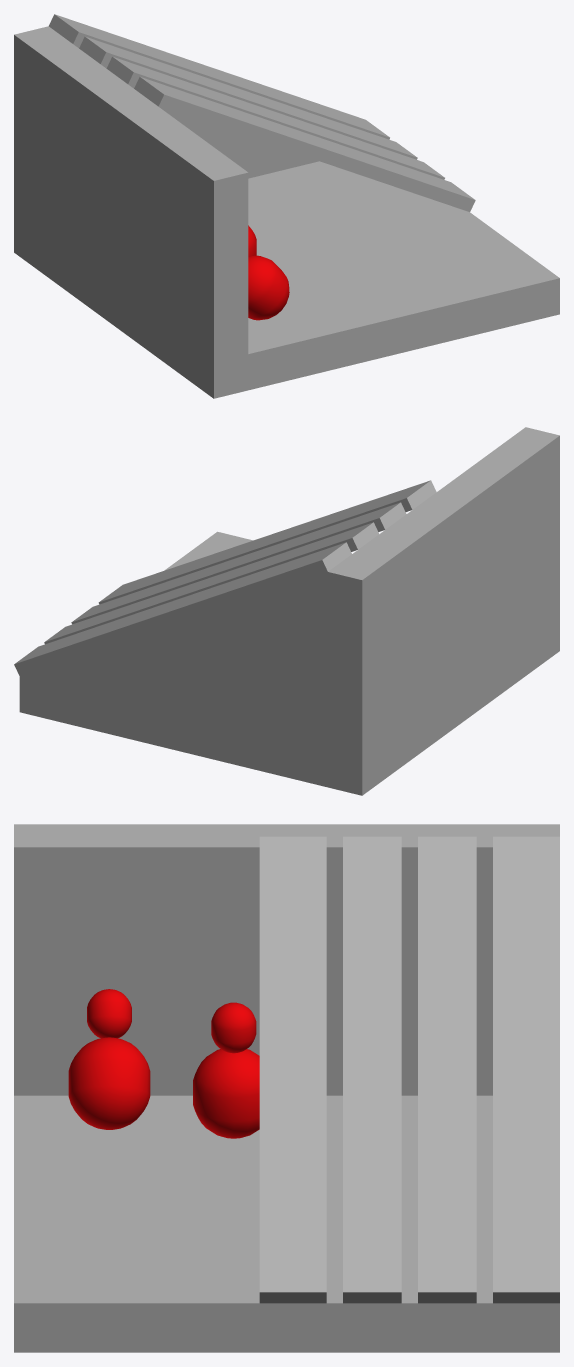
Rendered from TestColliderImport.fbx.
3 renders of one model, top to bottom at view 1: azimuth 30°, elevation 25°; view 2: azimuth 150°, elevation 25°; view 3: azimuth 270°, elevation 25°, orthographic. The views are drawn at different scales.
Parts seen in each view (by area): view 1: Building, NPC_rotated; view 2: Building; view 3: Building, NPC_rotated, NPC.
Part boxes in pixels (x1,y1,x2,y2): Building: [14, 14, 559, 398]; NPC_rotated: [248, 255, 289, 320]; Building: [14, 427, 559, 795]; Building: [14, 824, 559, 1352]; NPC_rotated: [68, 989, 150, 1129]; NPC: [193, 1002, 259, 1138].
Size of what is drawn, in the model's own units: 2 by 2.03 by 1.26.
